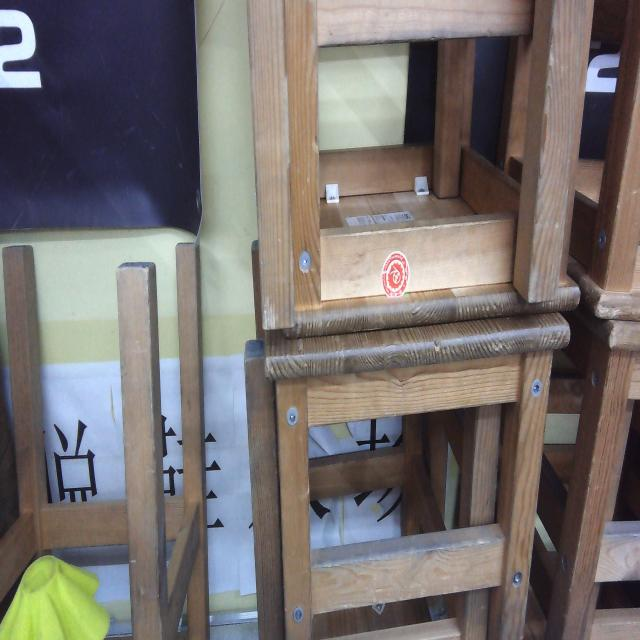Yellow-Stake-Head: (1, 555, 110, 639)
